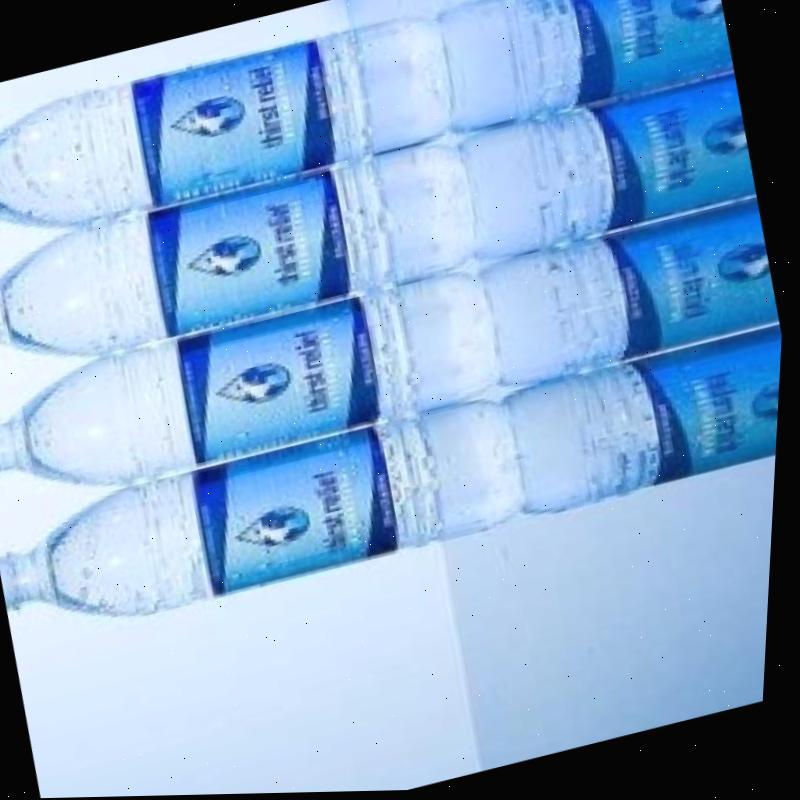botella: (0, 410, 456, 648), (0, 283, 425, 519), (0, 154, 404, 390), (0, 25, 384, 259)
